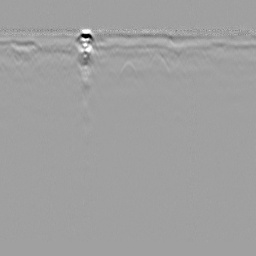cavity: (118, 58, 139, 79)
